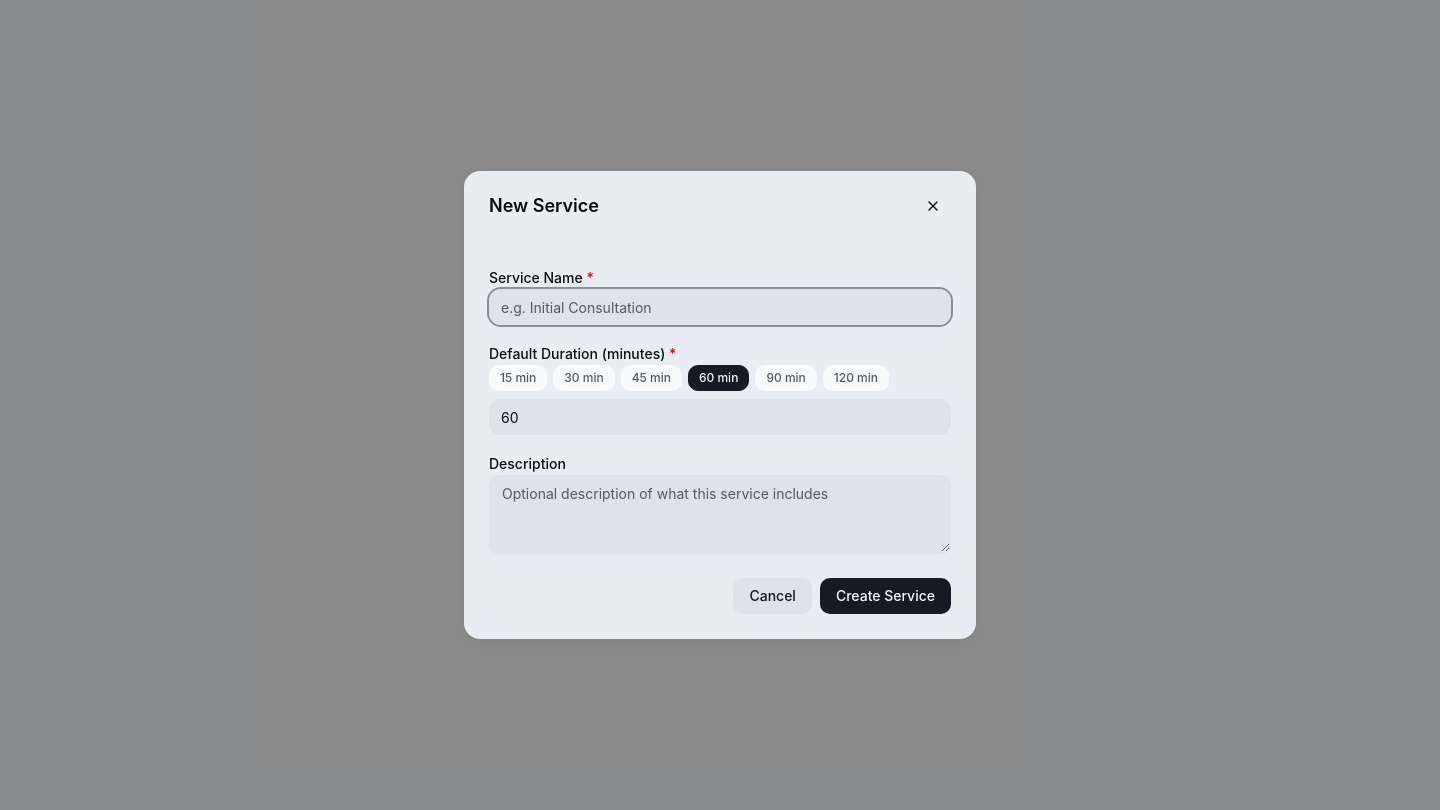
Scenario: ServiceFormDialog › validates required name before submitting
Click the button "Create Service" at (885, 596), box left=820, top=578, right=951, bottom=614
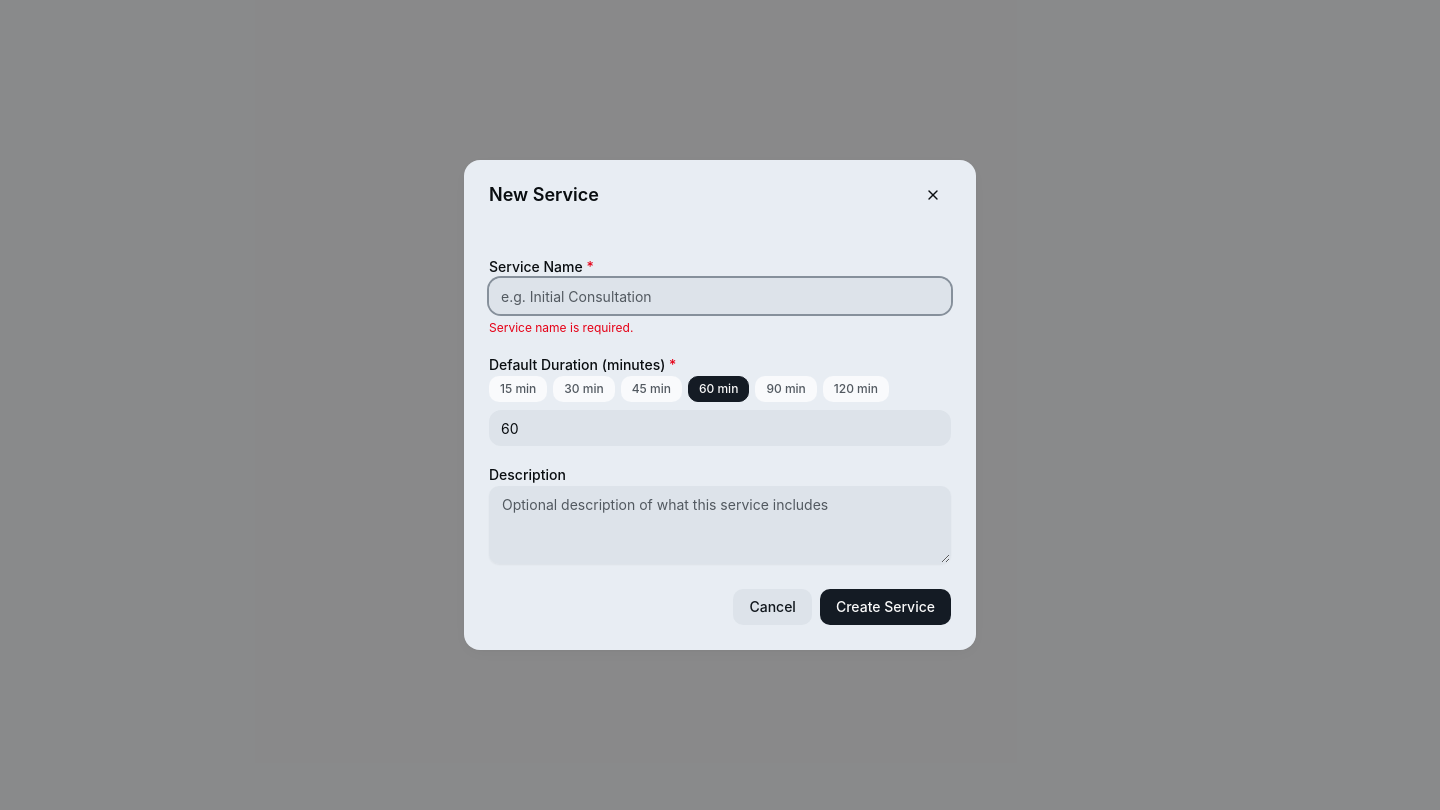
Expected: the text "Service name is required." is shown, left=489, top=320, right=633, bottom=335
